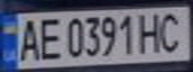0: (63, 14, 84, 58)
1: (115, 11, 139, 55)
3: (81, 14, 103, 58)
9: (100, 12, 121, 57)
A: (15, 16, 42, 62)
C: (154, 9, 190, 53)
E: (33, 15, 63, 61)
H: (136, 10, 166, 54)
